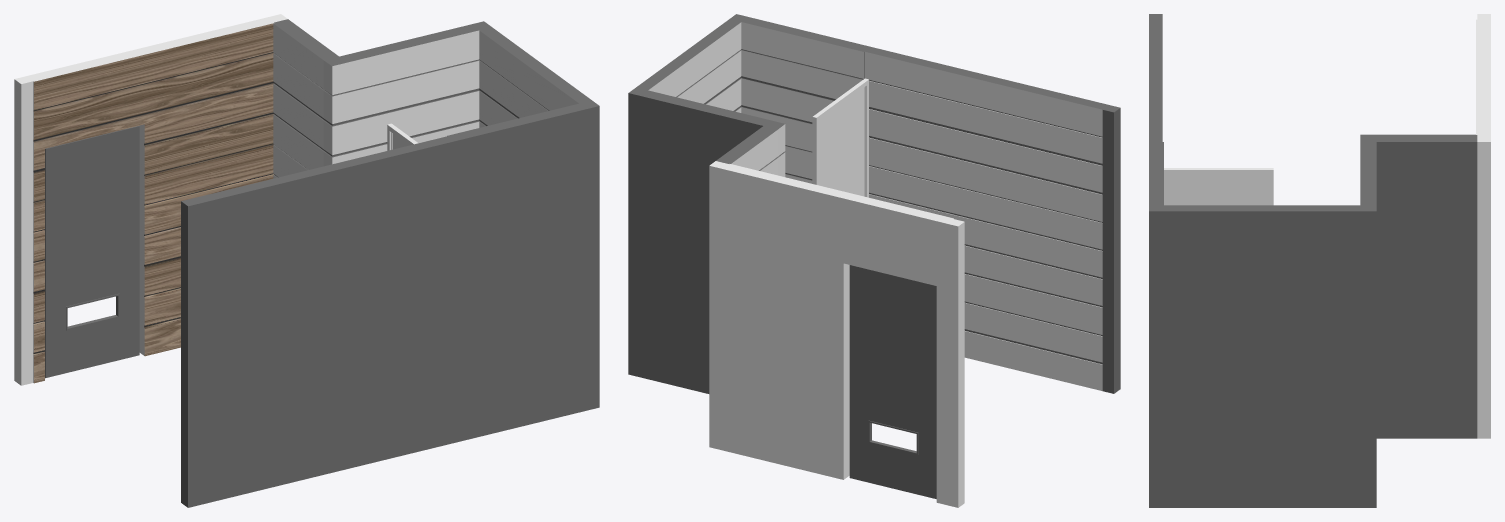
File: editRoom_wall.glb
3 renders of one model, left to right at view 1: azimuth 30°, elevation 25°; view 2: azimuth 150°, elevation 25°; view 3: azimuth 270°, elevation 25°, orthographic. The views are drawn at different scales.
Visible parts, largest first — view 1: Plane.003, Plane.002, Plane.001, Plane.008; view 2: Plane.003, Plane.001, Plane.002, Plane.008, Plane.009, Plane.006; view 3: Plane.002, Plane.001, Plane.009, Plane.003, Plane.006.
Boxes of the visible parts, x1=… form: Plane.003: x1=181, y1=136, x2=454, y2=507; Plane.002: x1=273, y1=19, x2=599, y2=442; Plane.001: x1=14, y1=14, x2=287, y2=385; Plane.008: x1=44, y1=126, x2=139, y2=378; Plane.003: x1=865, y1=47, x2=1120, y2=393; Plane.001: x1=709, y1=161, x2=964, y2=507; Plane.002: x1=628, y1=14, x2=870, y2=393; Plane.008: x1=849, y1=265, x2=936, y2=498; Plane.009: x1=819, y1=87, x2=864, y2=196; Plane.006: x1=812, y1=78, x2=868, y2=197; Plane.002: x1=1149, y1=134, x2=1477, y2=507; Plane.001: x1=1476, y1=14, x2=1490, y2=438; Plane.009: x1=1169, y1=175, x2=1266, y2=205; Plane.003: x1=1149, y1=14, x2=1162, y2=141; Plane.006: x1=1164, y1=168, x2=1273, y2=205.
Size of the model in its own units: 3.72 by 2.6 by 2.72.
6 materials, 1 textured.
